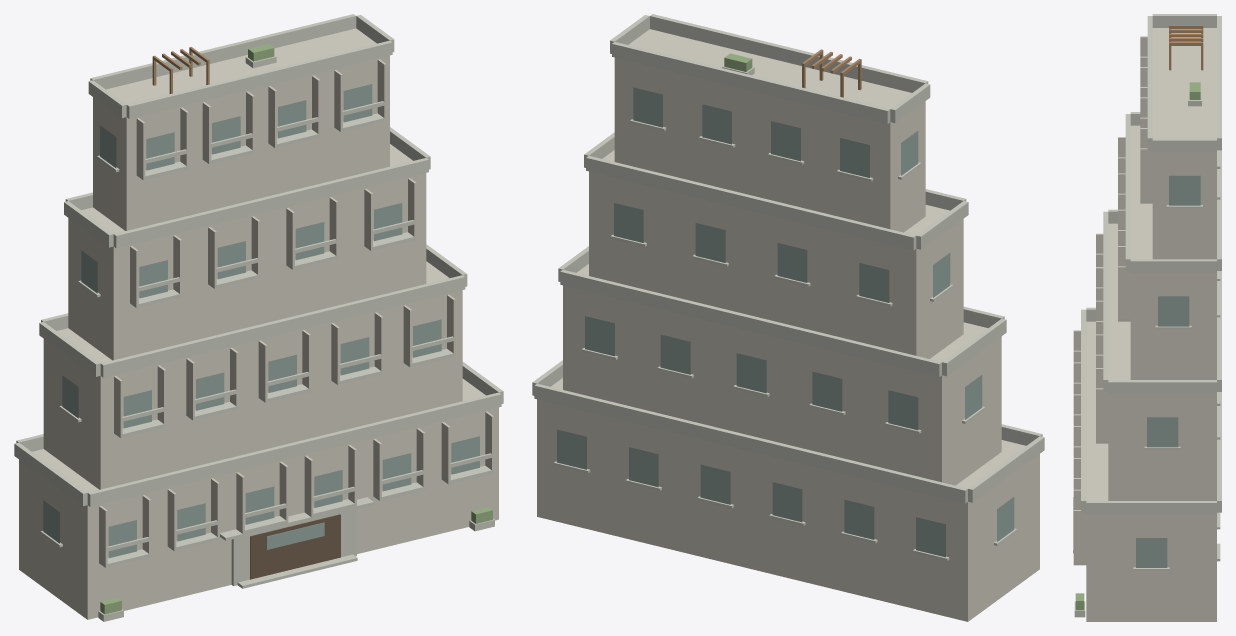
Rendered from residential_3x1_terraces.glb.
3 renders of one model, left to right at view 1: azimuth 30°, elevation 25°; view 2: azimuth 150°, elevation 25°; view 3: azimuth 270°, elevation 25°, orthographic. The views are drawn at different scales.
Parts seen in each view (by area): view 1: residential_3x1_terraces_0; view 2: residential_3x1_terraces_0; view 3: residential_3x1_terraces_0.
Part boxes in pixels (x1,y1,x2,y2): residential_3x1_terraces_0: (14, 14, 503, 621); residential_3x1_terraces_0: (532, 14, 1044, 621); residential_3x1_terraces_0: (1073, 14, 1221, 621).
Bounding box in the file's own units: 23 × 25.5 × 7.4.
